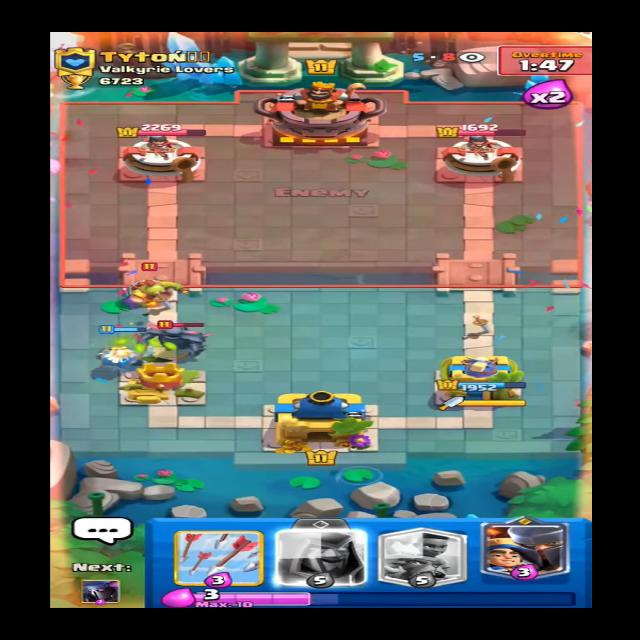goblin-demolisher: (111, 263, 202, 306)
pekka: (141, 316, 216, 352)
